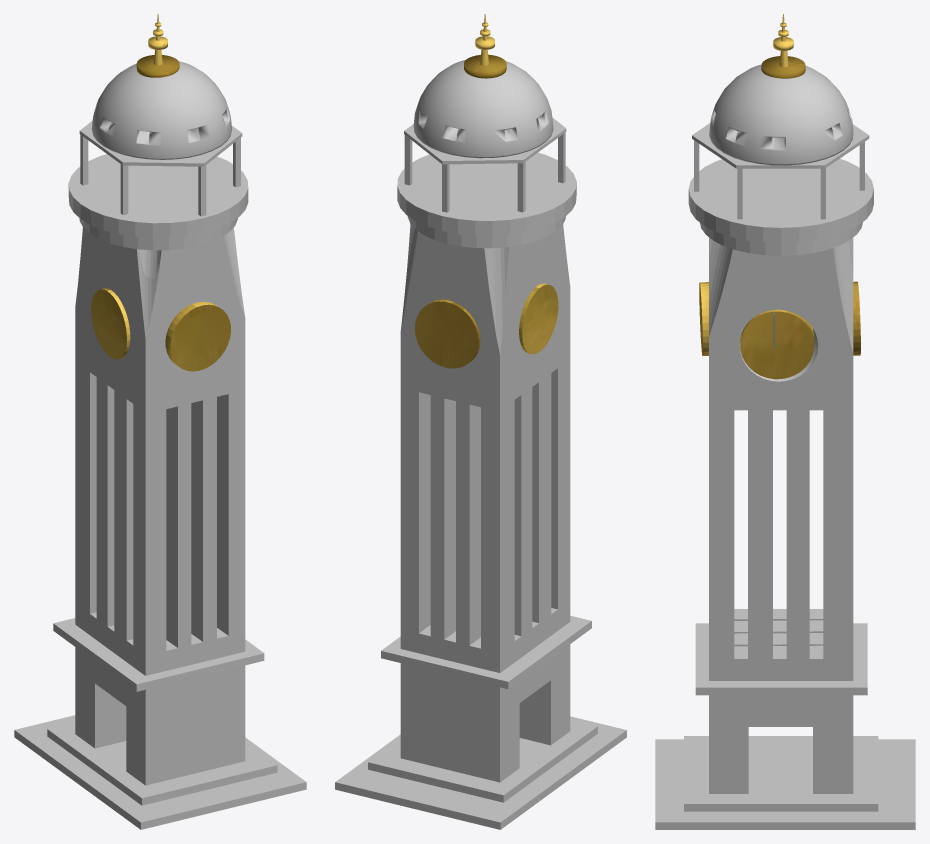
File: ghantaghar2.obj
3 renders of one model, left to right at view 1: azimuth 30°, elevation 25°; view 2: azimuth 150°, elevation 25°; view 3: azimuth 270°, elevation 25°, orthographic. The views are drawn at different scales.
Visible parts, largest first — view 1: Cube.103_Cube.105, Cylinder.001, Sphere.001, Cube.112_Cube.119, Cube.104_Cube.118, Cube.127, Cylinder.005, Cylinder.003_Cylinder.002, Cylinder, Circle_Circle.001, Cylinder.015; view 2: Cube.103_Cube.105, Cylinder.001, Sphere.001, Cube.112_Cube.119, Cube.104_Cube.118, Cube.127, Cylinder.004, Cylinder.003_Cylinder.002, Cylinder, Circle_Circle.001, Cylinder.015; view 3: Cube.103_Cube.105, Cylinder.001, Sphere.001, Cube.104_Cube.118, Cube.112_Cube.119, Cube.127, Cylinder.002_Cylinder.003, Cylinder, Circle_Circle.001, Cylinder.015, Cylinder.005, Cylinder.004.
Part boxes in pixels (x1,y1,x2,y2): Cube.103_Cube.105: (75, 227, 245, 785); Cylinder.001: (68, 154, 248, 238); Sphere.001: (91, 61, 231, 159); Cube.112_Cube.119: (14, 715, 306, 829); Cube.104_Cube.118: (47, 722, 277, 805); Cube.127: (53, 618, 264, 691); Cylinder.005: (165, 301, 230, 371); Cylinder.003_Cylinder.002: (91, 288, 130, 359); Cylinder: (79, 218, 237, 250); Circle_Circle.001: (79, 120, 242, 166); Cylinder.015: (136, 55, 179, 77); Cube.103_Cube.105: (400, 224, 570, 782); Cylinder.001: (397, 152, 576, 235); Sphere.001: (413, 60, 553, 158); Cube.112_Cube.119: (335, 716, 626, 829); Cube.104_Cube.118: (368, 719, 597, 802); Cube.127: (381, 615, 591, 689); Cylinder.004: (414, 299, 480, 368); Cylinder.003_Cylinder.002: (519, 283, 558, 354); Cylinder: (407, 216, 565, 248); Circle_Circle.001: (404, 117, 566, 164); Cylinder.015: (464, 54, 506, 78); Cube.103_Cube.105: (709, 237, 853, 793); Cylinder.001: (688, 159, 873, 243); Sphere.001: (709, 64, 853, 165); Cube.104_Cube.118: (684, 736, 878, 811); Cube.112_Cube.119: (655, 739, 915, 829); Cube.127: (695, 623, 867, 695); Cylinder.002_Cylinder.003: (740, 309, 814, 379); Cylinder: (700, 222, 862, 255); Circle_Circle.001: (692, 123, 869, 168); Cylinder.015: (761, 56, 805, 78); Cylinder.005: (699, 282, 708, 355); Cylinder.004: (853, 281, 860, 355).
Size of the model in its own units: 15.78 by 68.35 by 20.88.
